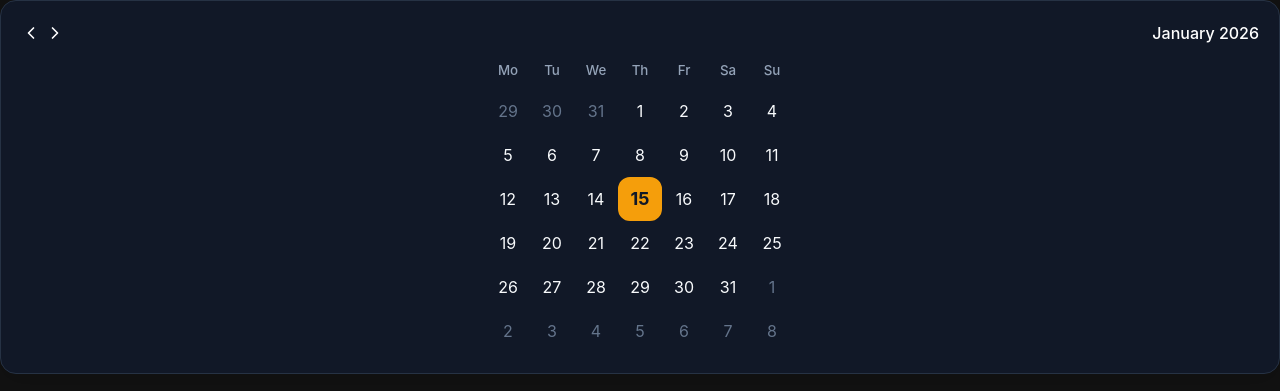
Test: Calendar › navigates visible months without changing the selected date
Step 1. Click the button named "Next month" → x=55, y=33, box x1=45 y1=23 x2=65 y2=43
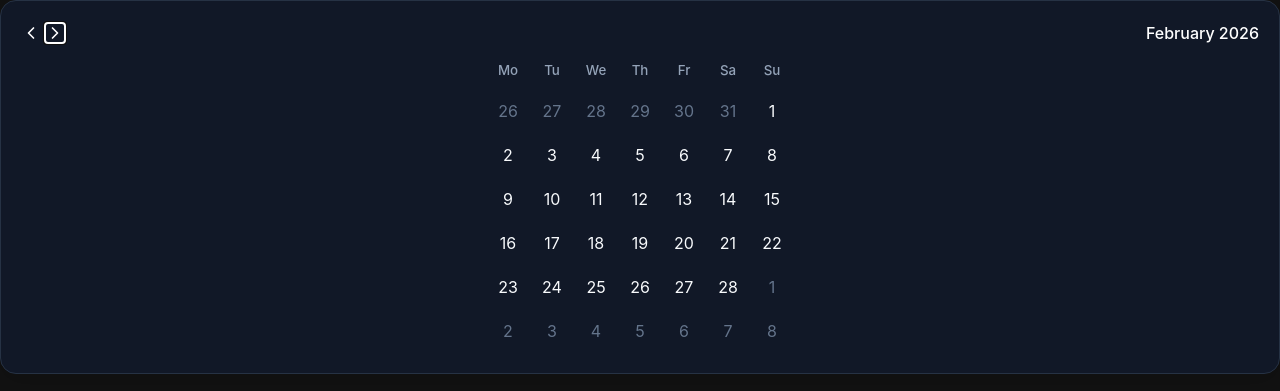
Now the text "February 2026" is shown, box x1=1146 y1=21 x2=1259 y2=45
Step 2. Click the button named "Previous month" → x=31, y=33, box x1=21 y1=23 x2=41 y2=43
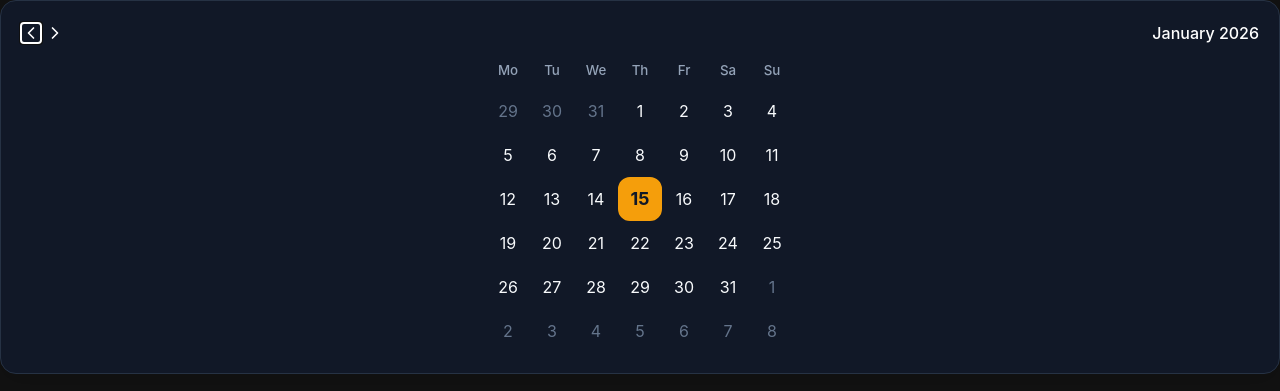
Now the text "January 2026" is shown, box x1=1152 y1=21 x2=1259 y2=45
